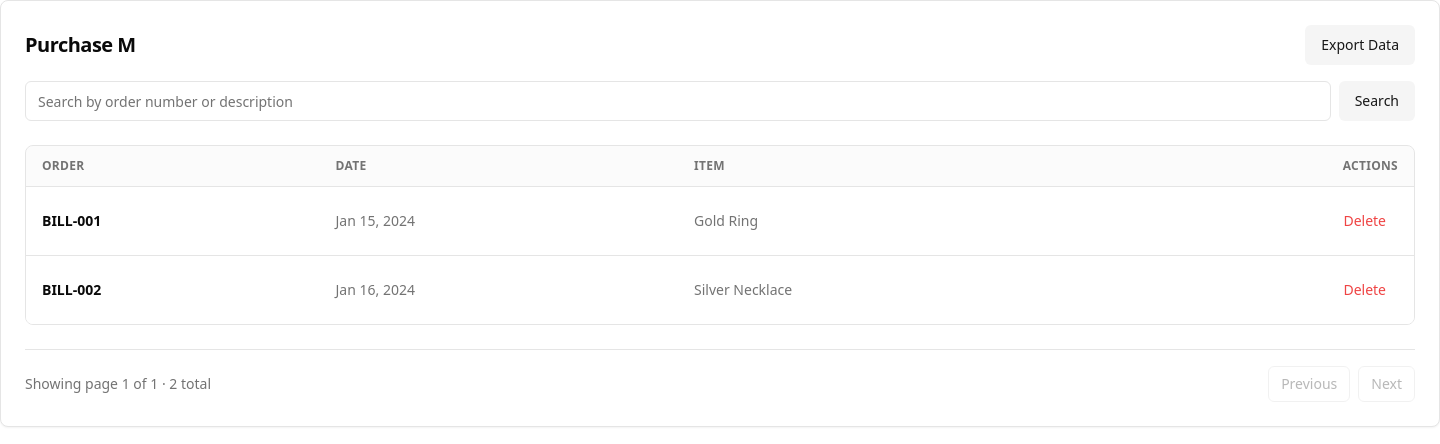
Test: PurchaseMList › Export Functionality › shows exporting state during export
Click the button "Export Data".
click(1360, 45)  # box [1305,25,1415,65]
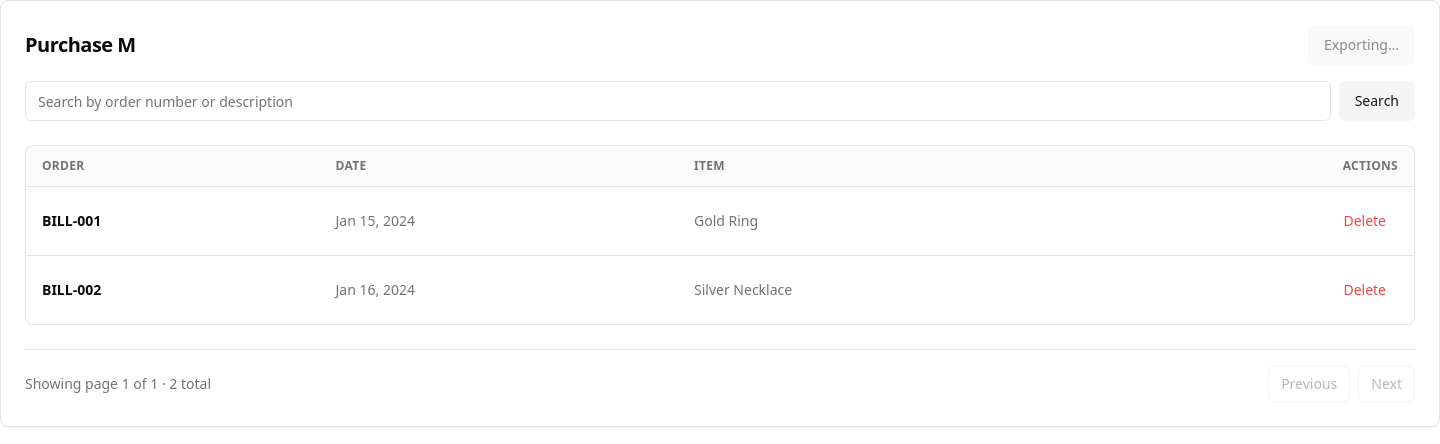
Check: the button "Exporting…" is disabled, box [1308,25,1415,65]
